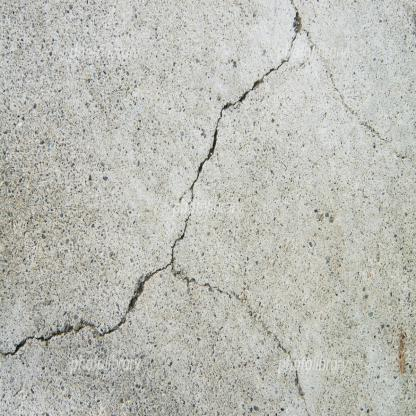branched cracks: (1, 0, 386, 400)
